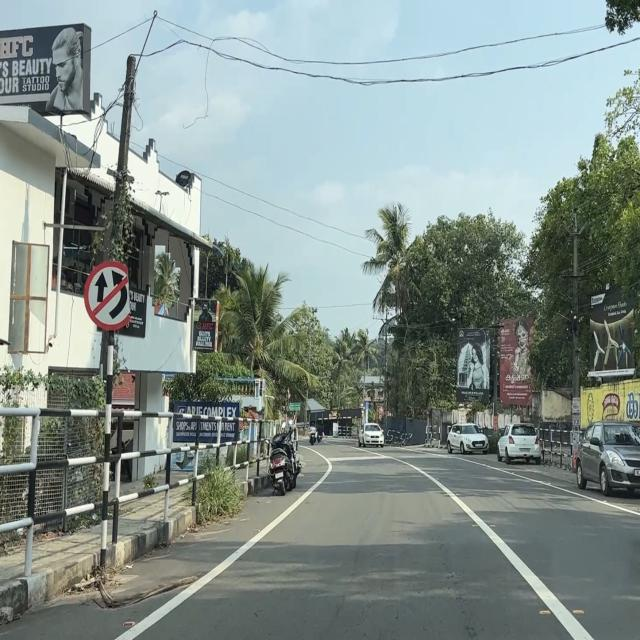OVERTAKING_PROHIBITED: (82, 258, 136, 332)
